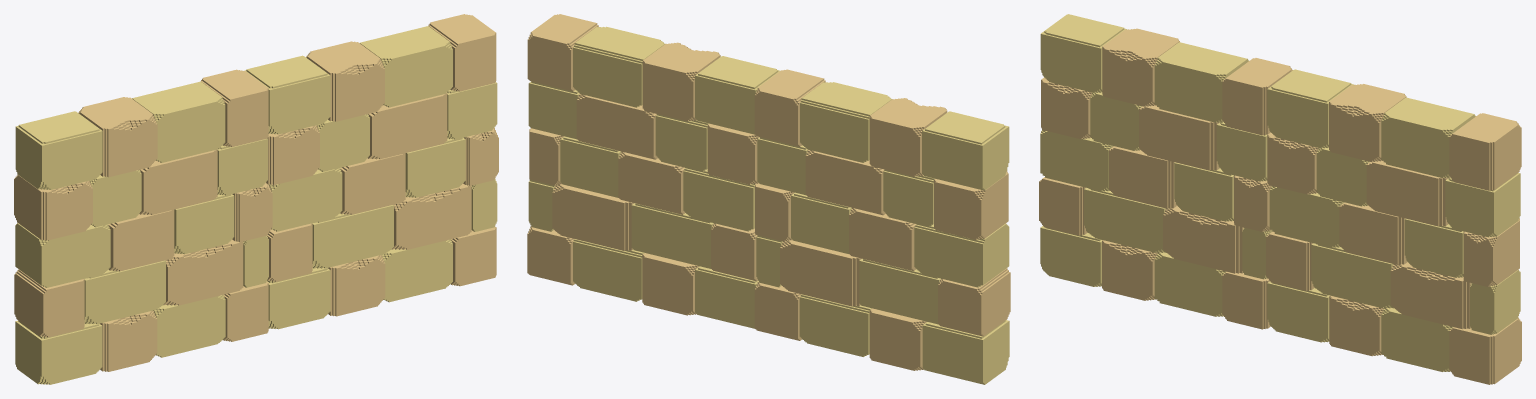
File: CompleteWall.fbx
The picture shows the model from 3 angles, left to right: view 1: azimuth 30°, elevation 25°; view 2: azimuth 150°, elevation 25°; view 3: azimuth 330°, elevation 25°; orthographic projection.
Visible parts, largest first — view 1: Brick.035, Brick.034, Brick.039, Brick.011, Brick.037, Brick.003, Brick.032, Brick.038, Brick.021, Brick.006, Brick.022, Brick.005 (+28 smaller); view 2: Brick.035, Brick.034, Brick.039, Brick.011, Brick.037, Brick.003, Brick.022, Brick.006, Brick.032, Brick.038, Brick.028, Brick.021 (+28 smaller); view 3: Brick.039, Brick.034, Brick.036, Brick.035, Brick.037, Brick.032, Brick.038, Brick.022, Brick.006, Brick.028, Brick.012, Brick.021 (+28 smaller).
Part boxes in pixels (x1,y1,x2,y2): Brick.035: [15, 111, 102, 189]; Brick.034: [132, 81, 225, 162]; Brick.039: [360, 26, 452, 107]; Brick.011: [15, 223, 110, 287]; Brick.037: [245, 55, 330, 134]; Brick.003: [15, 320, 102, 384]; Brick.032: [78, 97, 157, 177]; Brick.038: [306, 41, 384, 121]; Brick.021: [312, 205, 393, 268]; Brick.006: [163, 239, 243, 305]; Brick.022: [391, 183, 471, 249]; Brick.005: [84, 260, 165, 324]; Brick.035: [922, 111, 1009, 190]; Brick.034: [800, 82, 892, 162]; Brick.039: [573, 26, 664, 107]; Brick.011: [914, 223, 1009, 287]; Brick.037: [695, 56, 780, 134]; Brick.003: [922, 320, 1009, 384]; Brick.022: [552, 184, 634, 250]; Brick.006: [780, 239, 861, 306]; Brick.032: [869, 98, 947, 176]; Brick.038: [642, 42, 720, 121]; Brick.028: [576, 93, 657, 159]; Brick.021: [631, 203, 713, 268]; Brick.039: [1381, 97, 1475, 177]; Brick.034: [1154, 42, 1249, 122]; Brick.036: [1449, 113, 1521, 190]; Brick.035: [1040, 14, 1127, 92]; Brick.037: [1267, 69, 1353, 148]; Brick.032: [1102, 28, 1179, 106]; Brick.038: [1329, 84, 1406, 161]; Brick.022: [1390, 262, 1471, 329]; Brick.006: [1163, 205, 1243, 273]; Brick.028: [1366, 160, 1448, 226]; Brick.012: [1139, 105, 1219, 170]; Brick.021: [1311, 243, 1393, 308].
Bounding box in the file's own units: 4 × 0.4464 × 2.04.
